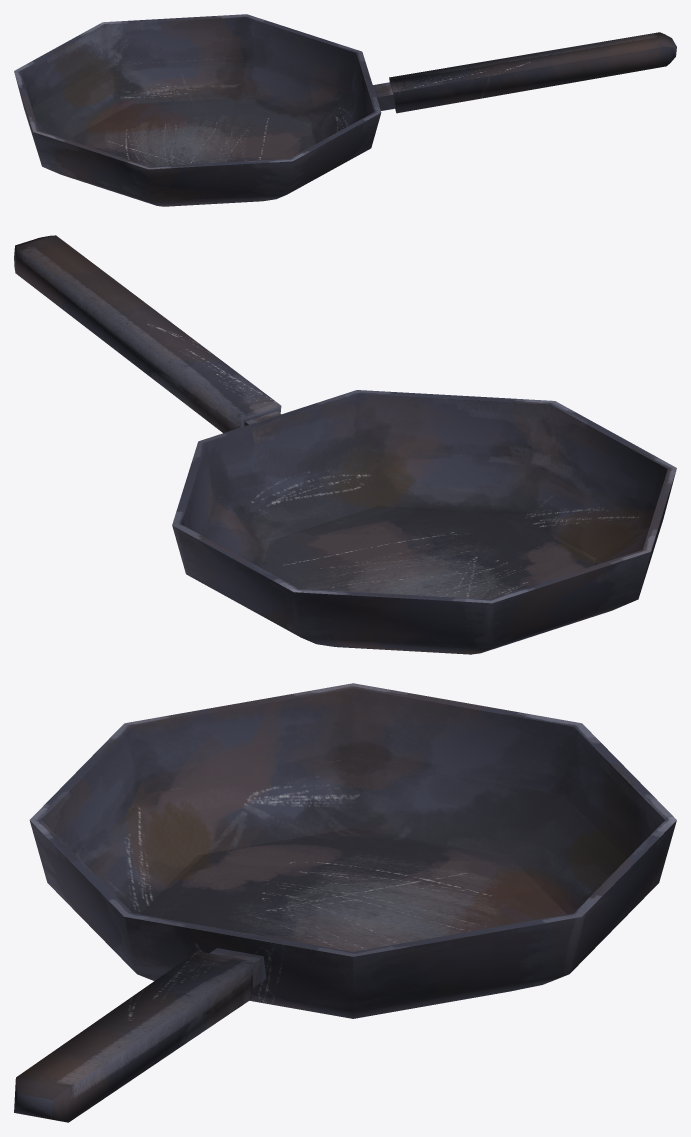
Rendered from sarten_pequena.fbx.
3 renders of one model, top to bottom at view 1: azimuth 30°, elevation 25°; view 2: azimuth 150°, elevation 25°; view 3: azimuth 270°, elevation 25°, orthographic. The views are drawn at different scales.
Visible parts, largest first — view 1: Sarten_pequena_term; view 2: Sarten_pequena_term; view 3: Sarten_pequena_term.
Part boxes in pixels (x1,y1,x2,y2): Sarten_pequena_term: [14, 14, 676, 206]; Sarten_pequena_term: [14, 235, 676, 654]; Sarten_pequena_term: [14, 683, 676, 1122].
Size of the model in its own units: 31.91 by 4.97 by 19.5.
Materials: 1 (1 with a texture image).
